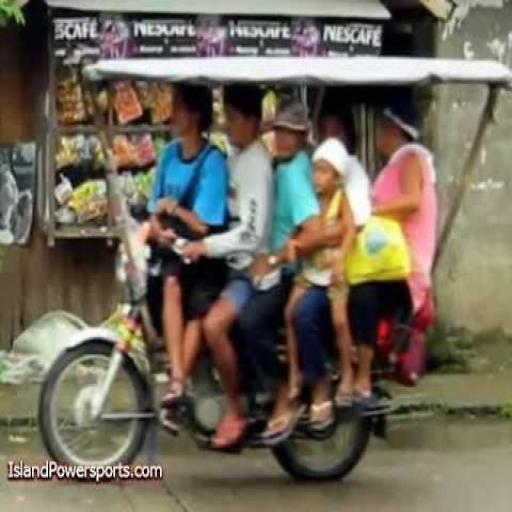no helmet: (224, 83, 278, 172)
triple riding: (46, 60, 436, 466)
